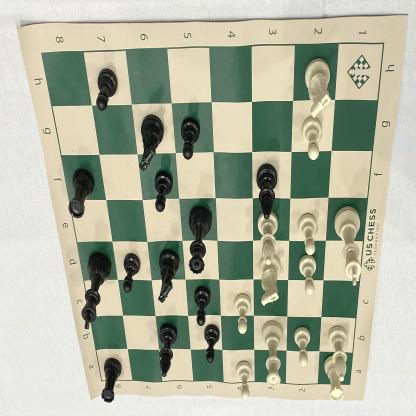black-bishop: (252, 162, 282, 222), (137, 110, 165, 174), (154, 320, 181, 381), (156, 247, 180, 306)
black-king: (80, 249, 114, 335)
black-pawn: (95, 65, 119, 115), (179, 114, 203, 162), (152, 167, 176, 214), (121, 250, 143, 297), (202, 322, 224, 364), (193, 283, 212, 329)
black-queen: (186, 202, 213, 277)
black-rook: (66, 167, 96, 222), (100, 354, 124, 406)
white-bishop: (326, 324, 350, 382), (257, 210, 279, 266)
white-king: (330, 202, 364, 288)
white-knight: (300, 56, 334, 118), (258, 253, 283, 308)
white-pawn: (300, 114, 324, 163), (297, 210, 319, 257), (297, 252, 318, 298), (232, 290, 252, 336), (292, 323, 312, 368), (234, 356, 252, 402)
white-queen: (259, 317, 286, 392)
white-rook: (322, 355, 346, 405)
